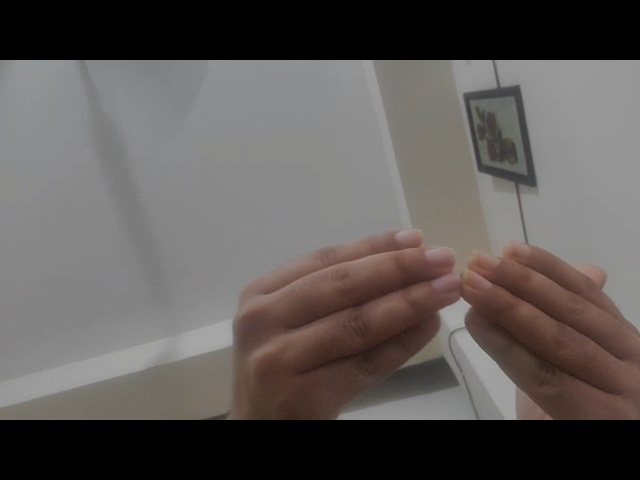Thank you: (220, 214, 640, 422)
